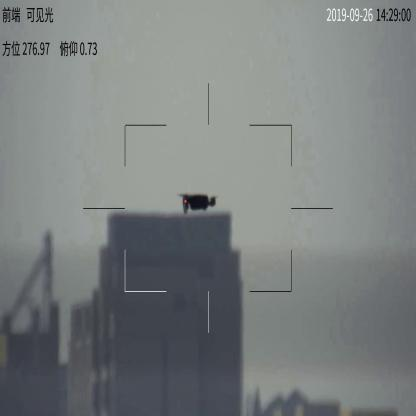uav: (182, 189, 233, 214)
